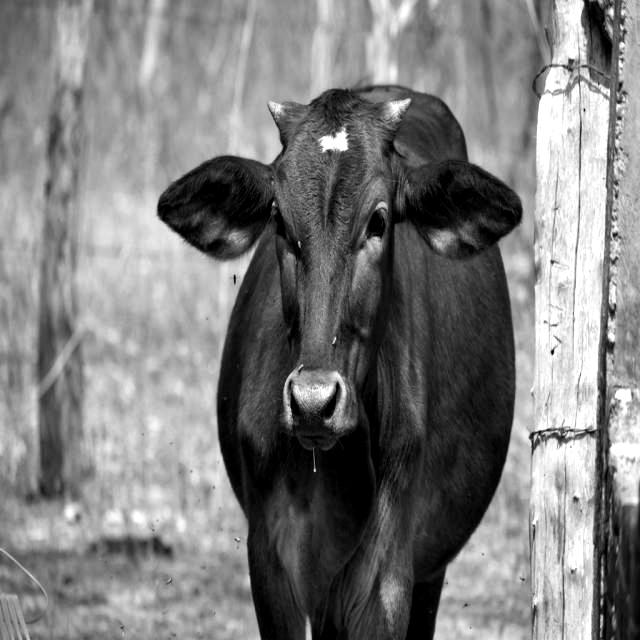COW: (158, 86, 521, 640)
